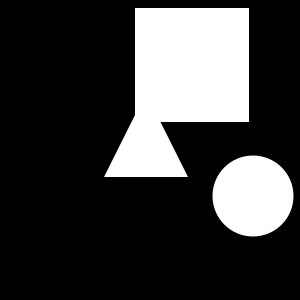circle: (135, 8, 249, 122)
rectangle: (212, 156, 294, 236)
triangle: (104, 93, 188, 177)
